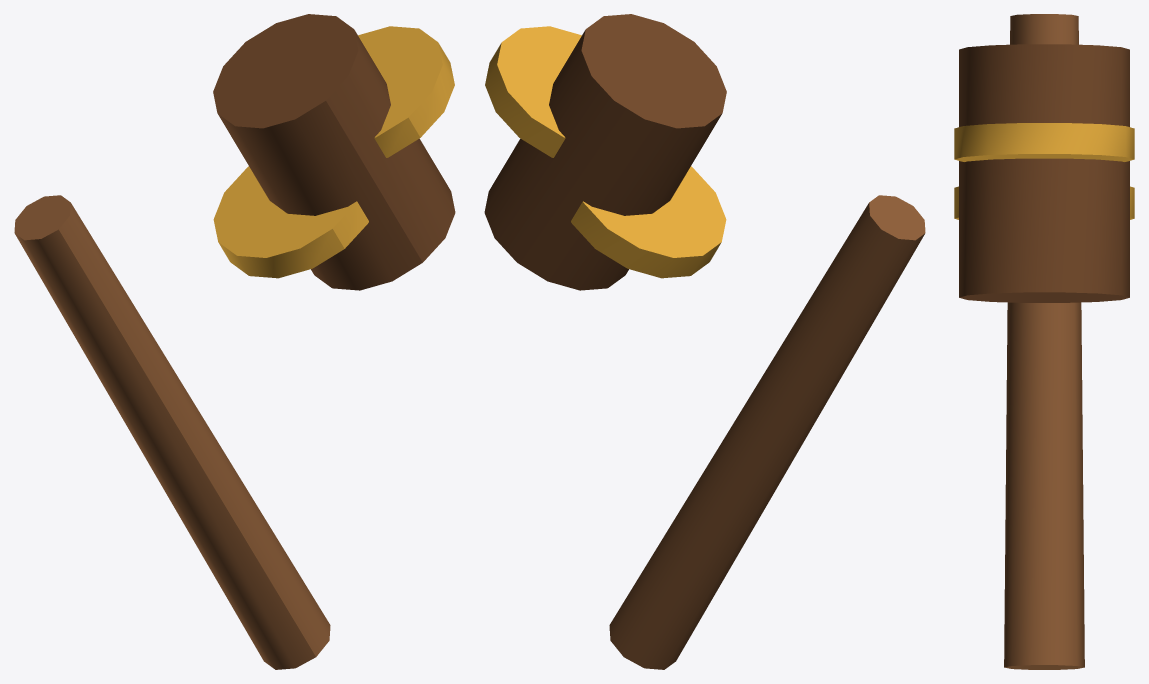
File: held-item.glb
3 renders of one model, left to right at view 1: azimuth 30°, elevation 25°; view 2: azimuth 150°, elevation 25°; view 3: azimuth 270°, elevation 25°, orthographic. The views are drawn at different scales.
Parts seen in each view (by area): view 1: gavel; view 2: gavel; view 3: gavel.
Boxes of the visible parts, x1,y1,x2,y2 form: gavel: [14, 14, 455, 669]; gavel: [484, 14, 925, 669]; gavel: [954, 14, 1134, 669].
Size of the model in its own units: 0.3345 by 0.4721 by 0.116.
